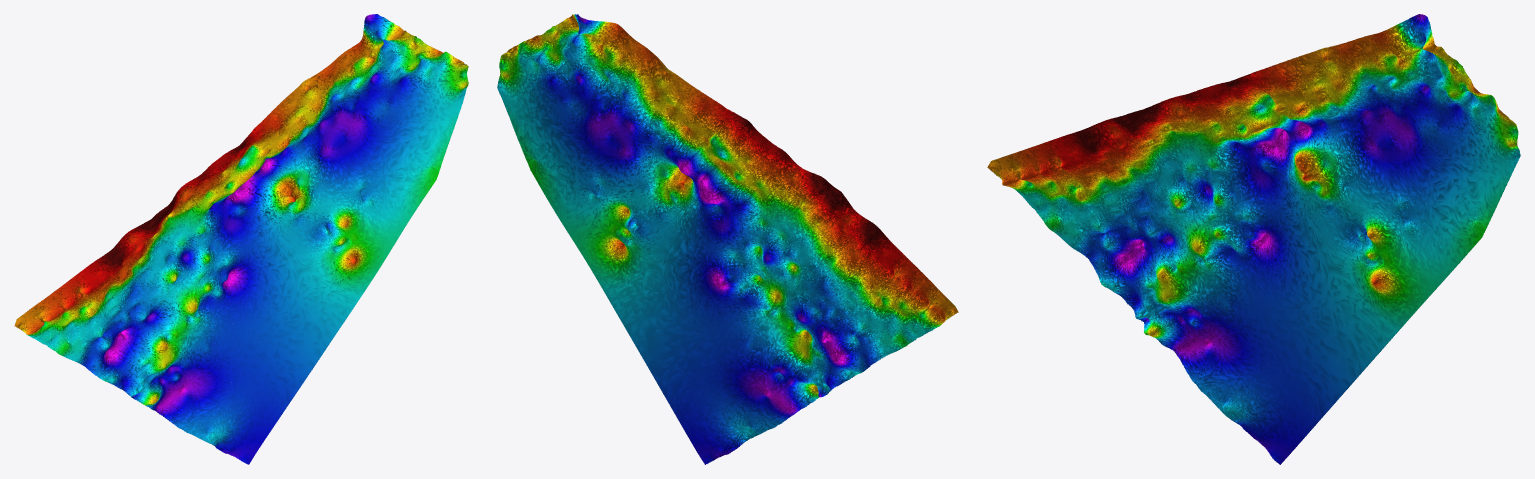
The model's file is Topo_Albiano.glb.
3 renders of one model, left to right at view 1: azimuth 30°, elevation 25°; view 2: azimuth 150°, elevation 25°; view 3: azimuth 330°, elevation 25°, orthographic. The views are drawn at different scales.
Visible parts, largest first — view 1: Surface; view 2: Surface; view 3: Surface.
Part boxes in pixels (x1=…): Surface: x1=14, y1=14, x2=468, y2=464; Surface: x1=497, y1=14, x2=958, y2=464; Surface: x1=987, y1=14, x2=1520, y2=464.
Size of the model in its own units: 355500 by 312250 by 32007.
1 material, 1 textured.
